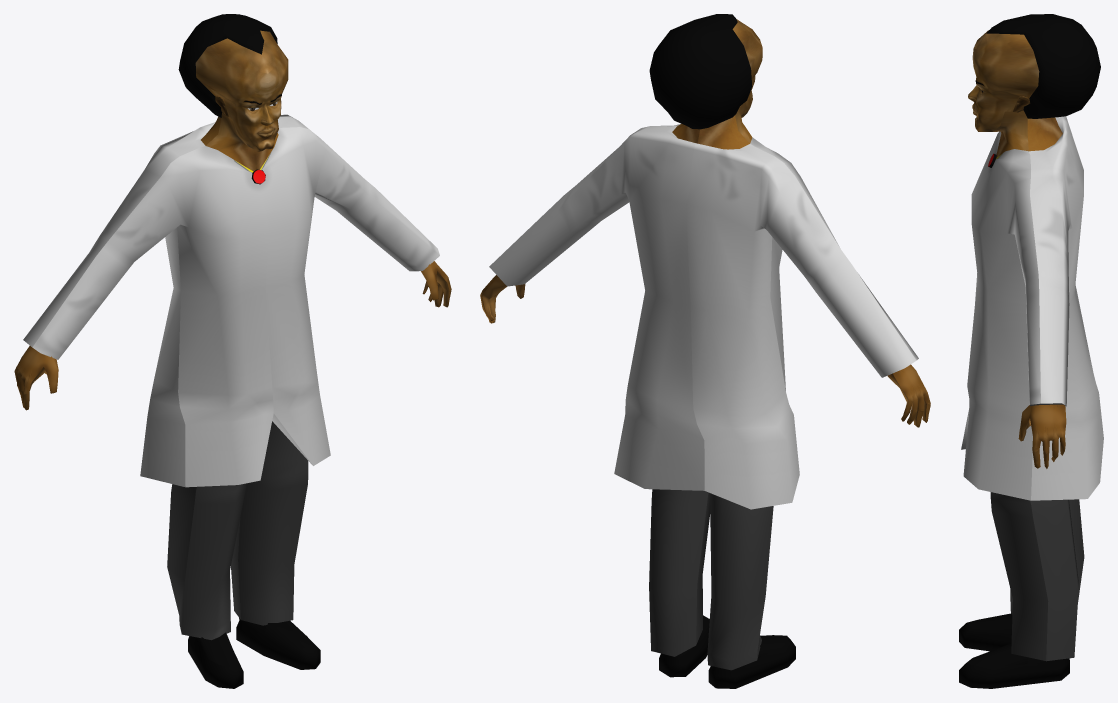
The model's file is Yakub_1.glb.
3 renders of one model, left to right at view 1: azimuth 30°, elevation 25°; view 2: azimuth 150°, elevation 25°; view 3: azimuth 270°, elevation 25°, orthographic. The views are drawn at different scales.
Visible parts, largest first — view 1: mesh0, mesh1; view 2: mesh0, mesh1; view 3: mesh0, mesh1.
Part boxes in pixels (x1,y1,x2,y2): mesh0: (14, 114, 451, 688); mesh1: (178, 14, 288, 171); mesh0: (480, 124, 930, 688); mesh1: (649, 14, 762, 149); mesh0: (959, 116, 1103, 688); mesh1: (968, 14, 1100, 157).
Bounding box in the file's own units: 0.0793 × 0.1113 × 0.0228.
Materials: 2 (2 with a texture image).
